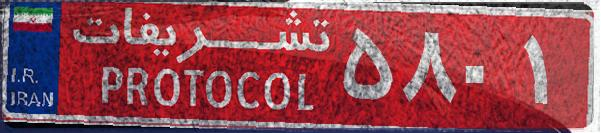0: (460, 20, 520, 115)
1: (520, 20, 580, 115)
5: (340, 20, 400, 115)
8: (400, 20, 460, 115)
تشریفات: (60, 8, 340, 125)
